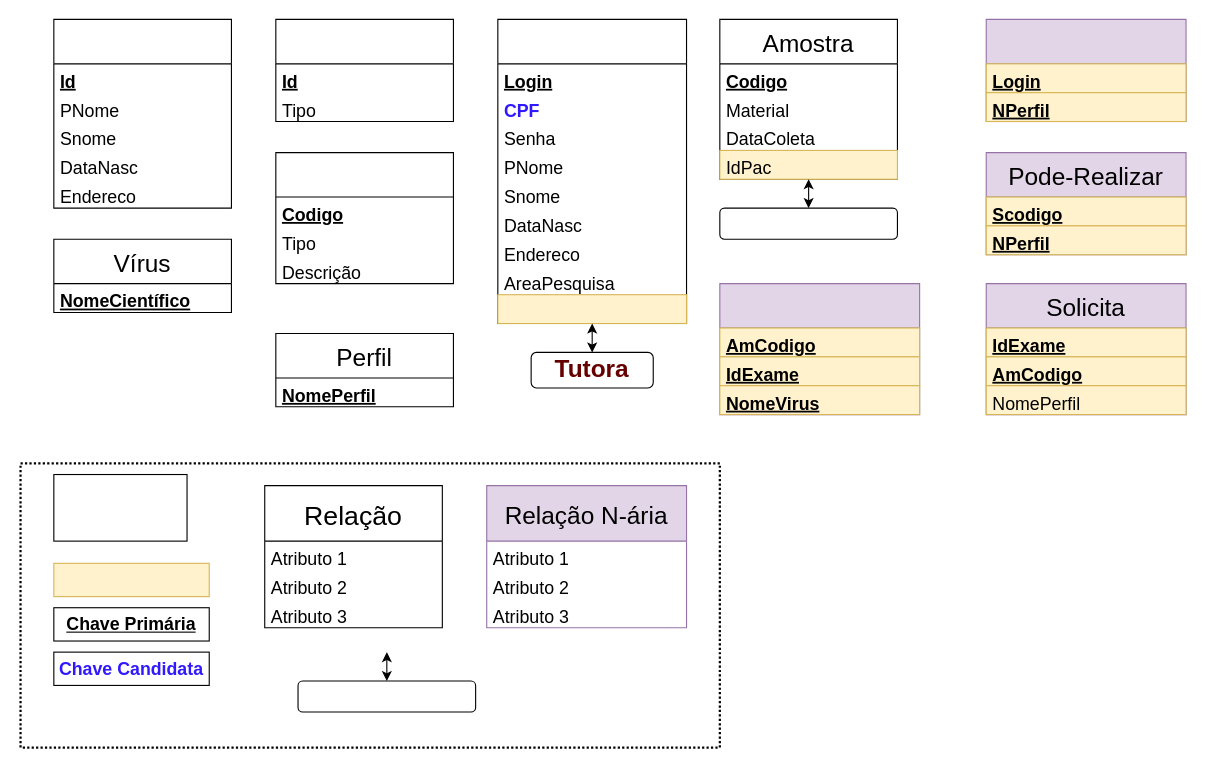
Image size: 1205x768. Some labels were removed from this diagram. The shapes that lost their labels are listed below. From the top down, each one's box as (x1, y1, x2, y2) in pixels, then its label:
(275, 18, 453, 122): Exame
(985, 18, 1186, 122): Tem-Perfil
(53, 18, 231, 208): Paciente
(497, 18, 687, 324): Usuário
(275, 152, 453, 284): Serviço
(719, 207, 897, 239): Analisado Em
(497, 294, 687, 324): LoginTutorado
(719, 282, 920, 415): Positivo-para
(53, 473, 187, 541): Legenda:
(53, 562, 209, 597): Chave Estrangeira
(297, 680, 476, 712): Relação n:1
